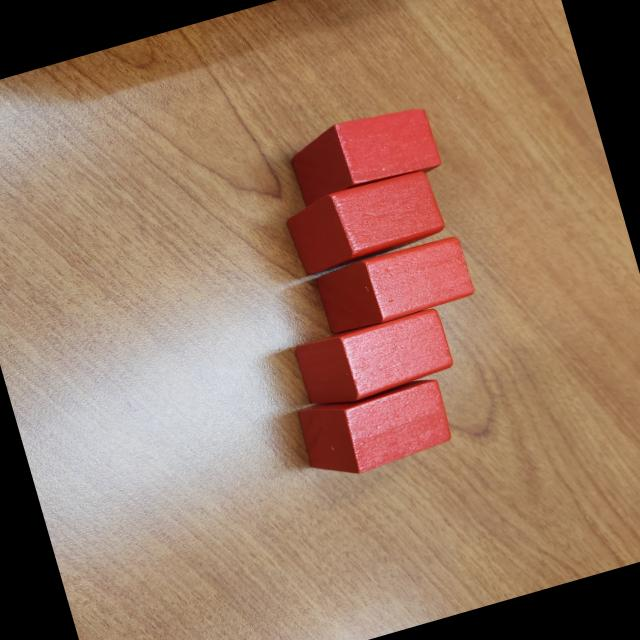red: (278, 94, 447, 210), (280, 164, 450, 278), (292, 371, 456, 487), (314, 230, 479, 338), (294, 304, 456, 414)
